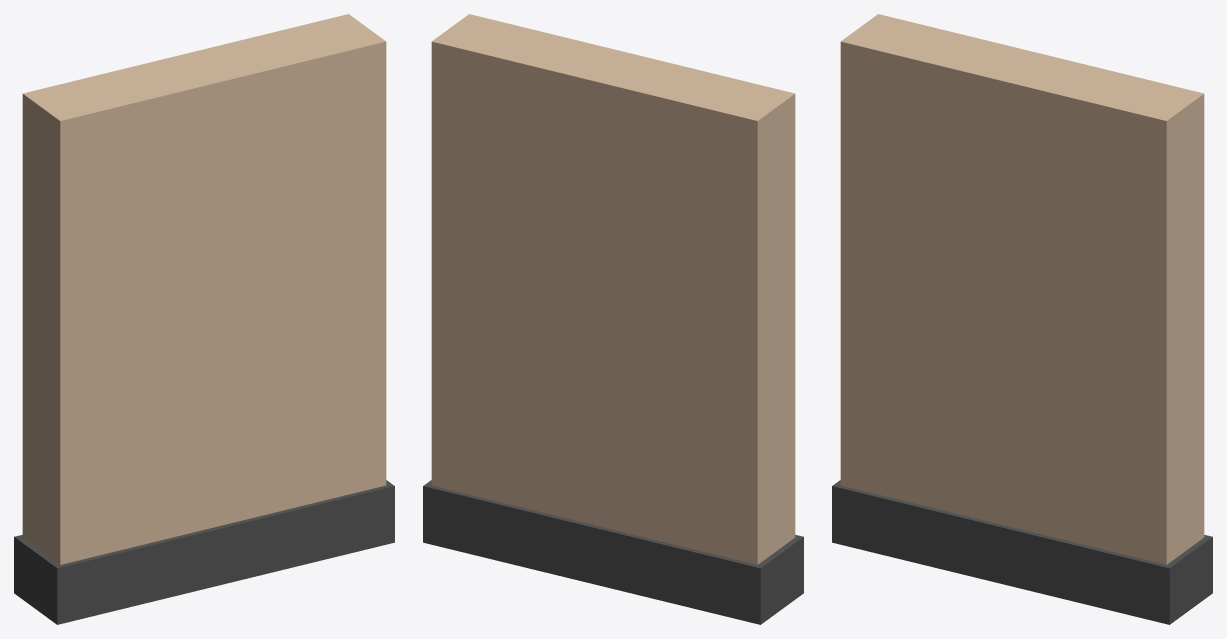
Rendered from wall_02.gltf.
The picture shows the model from 3 angles, left to right: view 1: azimuth 30°, elevation 25°; view 2: azimuth 150°, elevation 25°; view 3: azimuth 330°, elevation 25°; orthographic projection.
Visible parts, largest first — view 1: Wall_02; view 2: Wall_02; view 3: Wall_02.
Part boxes in pixels (x1=…): Wall_02: x1=14, y1=14, x2=394, y2=624; Wall_02: x1=423, y1=14, x2=803, y2=624; Wall_02: x1=832, y1=14, x2=1212, y2=624.
Bounding box in the file's own units: 1.55 × 2.2 × 0.3441.
1 material, 1 textured.
